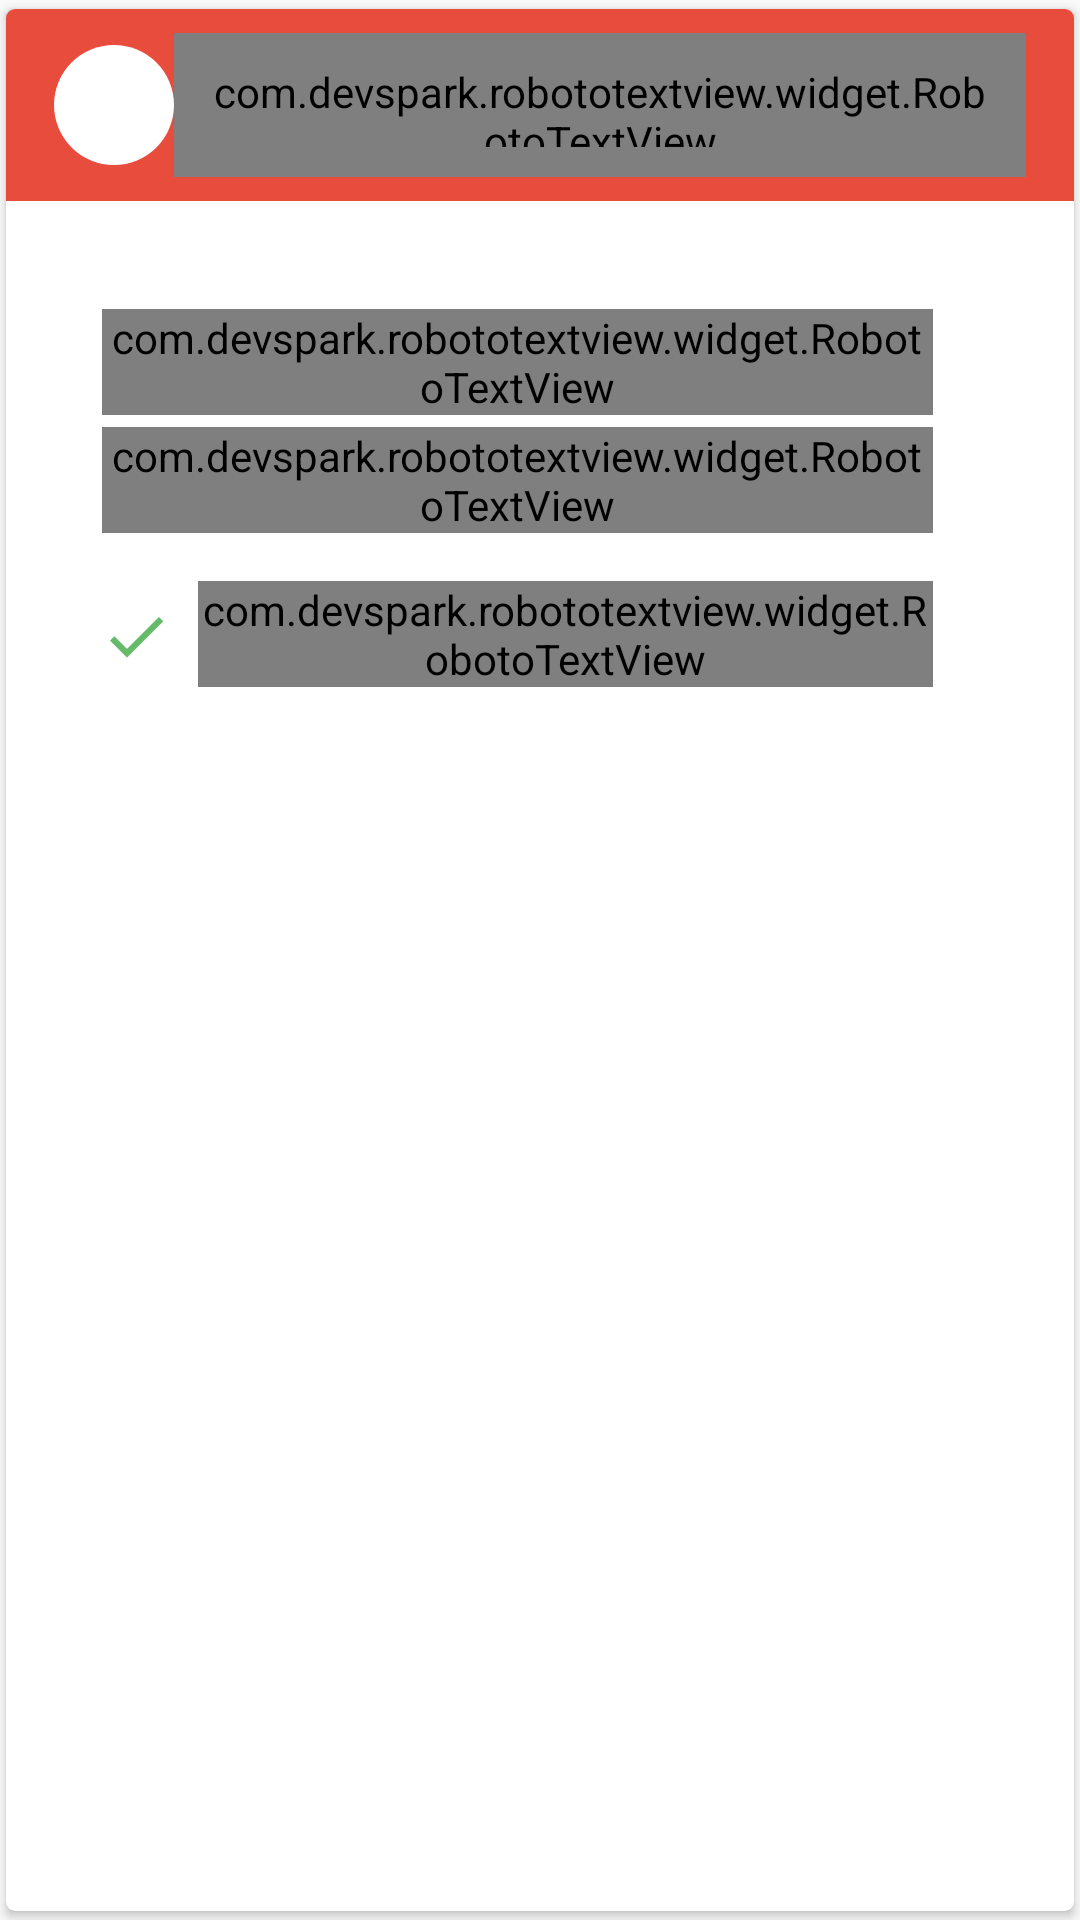

Screen size 1080px x 1920px. Icon name, then its box in pixels as (x1, y1, x2, y2):
check: (110, 617, 163, 658)
